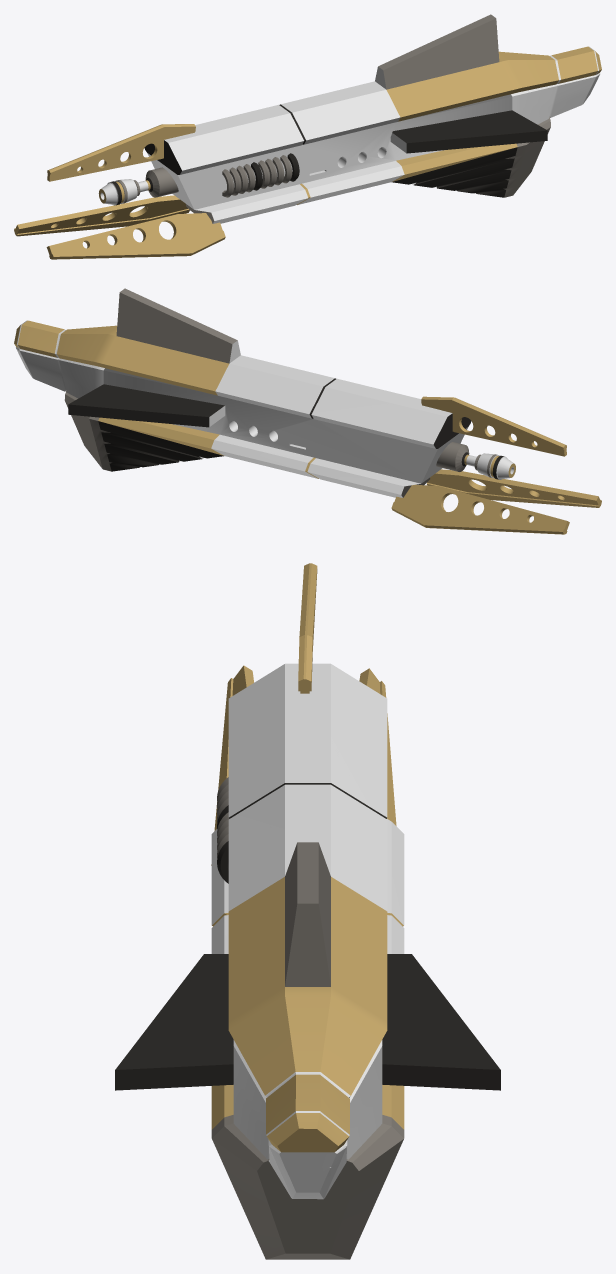
Rendered from BeamGun.fbx.
3 renders of one model, top to bottom at view 1: azimuth 30°, elevation 25°; view 2: azimuth 150°, elevation 25°; view 3: azimuth 270°, elevation 25°, orthographic. The views are drawn at different scales.
Visible parts, largest first — view 1: pCube4, polySurface1, polySurface2, polySurface3, pCylinder1; view 2: pCube4, polySurface2, polySurface1, polySurface3, pCylinder1; view 3: pCube4, polySurface3, polySurface1, polySurface2.
Boxes of the visible parts, x1=… form: pCube4: x1=144, y1=14, x2=601, y2=223; polySurface1: x1=46, y1=213, x2=225, y2=259; polySurface2: x1=14, y1=195, x2=189, y2=236; polySurface3: x1=47, y1=124, x2=195, y2=181; pCylinder1: x1=98, y1=167, x2=178, y2=205; pCube4: x1=14, y1=288, x2=471, y2=497; polySurface2: x1=391, y1=484, x2=569, y2=534; polySurface1: x1=426, y1=469, x2=601, y2=507; polySurface3: x1=421, y1=396, x2=566, y2=456; pCylinder1: x1=436, y1=442, x2=515, y2=479; pCube4: x1=115, y1=663, x2=500, y2=1259; polySurface3: x1=298, y1=563, x2=317, y2=693; polySurface1: x1=211, y1=665, x2=253, y2=865; polySurface2: x1=359, y1=668, x2=396, y2=825.
Bounding box in the file's own units: 63.93 × 18.8 × 18.94.
